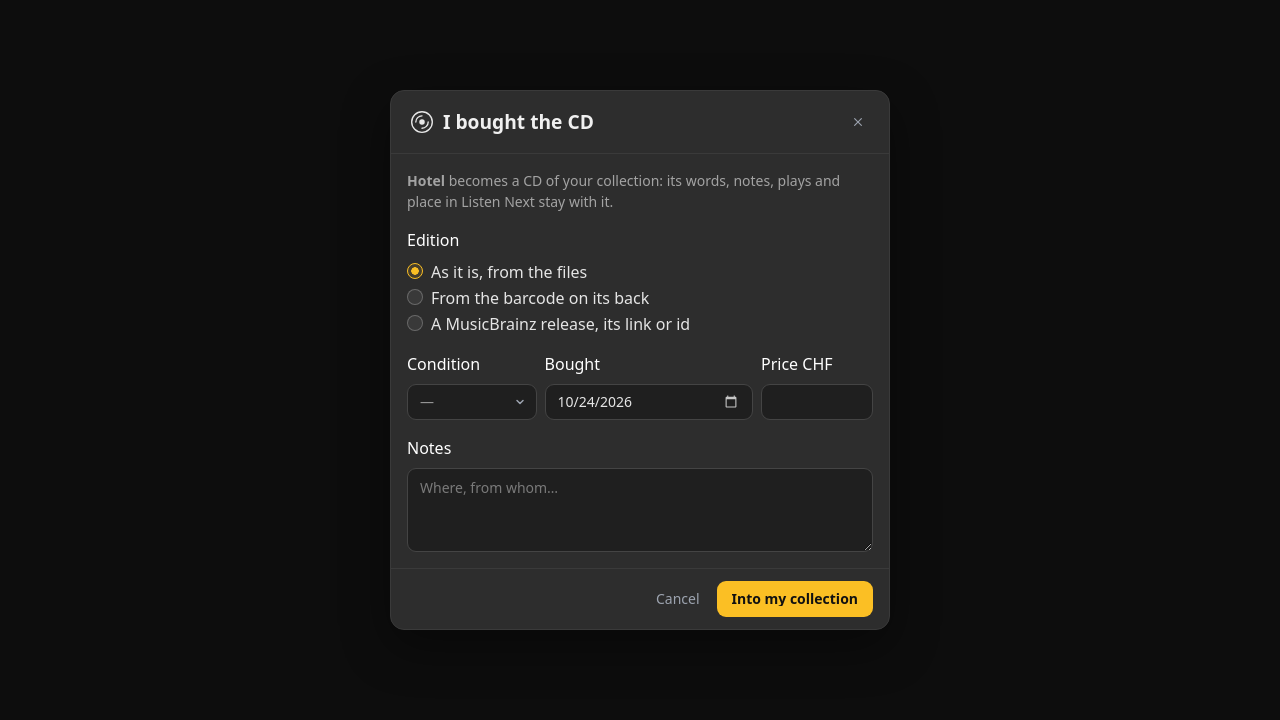
Test case: BoughtCdDialog › prend l’édition du code-barres quand on le choisit, et montre ce que le serveur refuse
This screenshot has width=1280, height=720.
Step 1. Click the radio button labelled "From the barcode on its back" → (415, 297), box [407, 289, 423, 305]
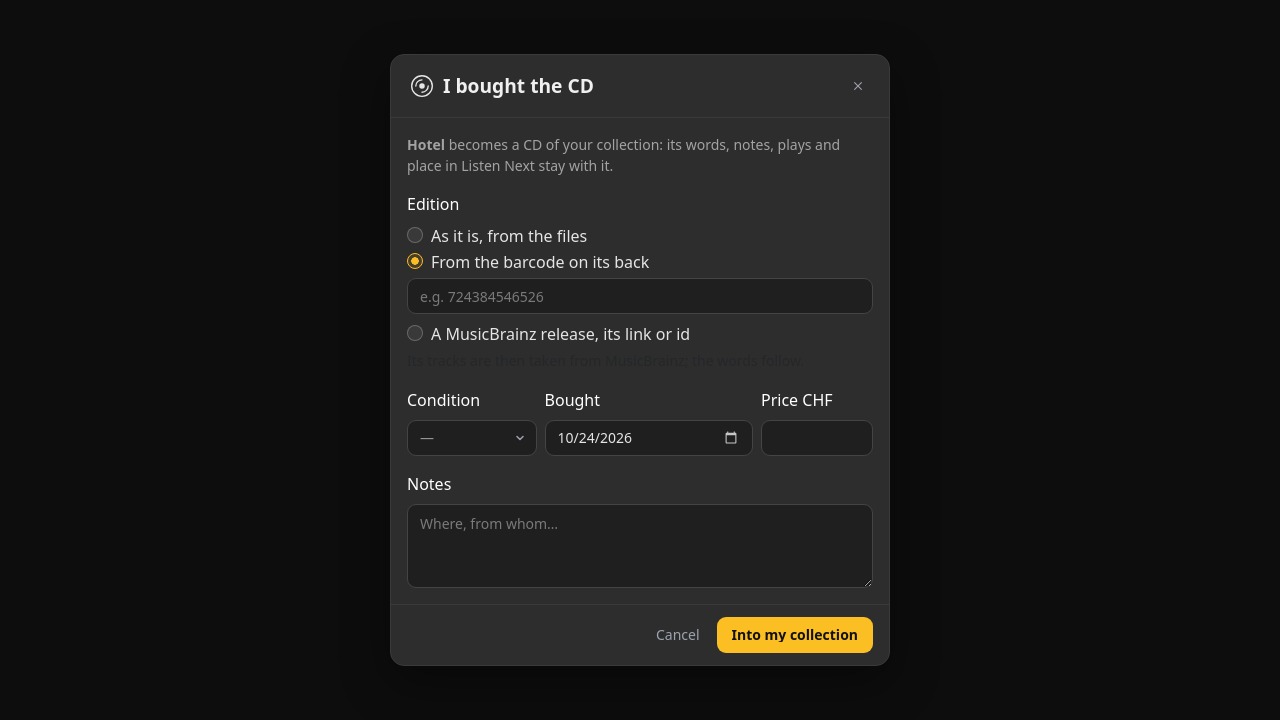
Step 2. Type "123" into the field with placeholder "e.g. 724384546526" → (640, 296), box [407, 278, 873, 314]
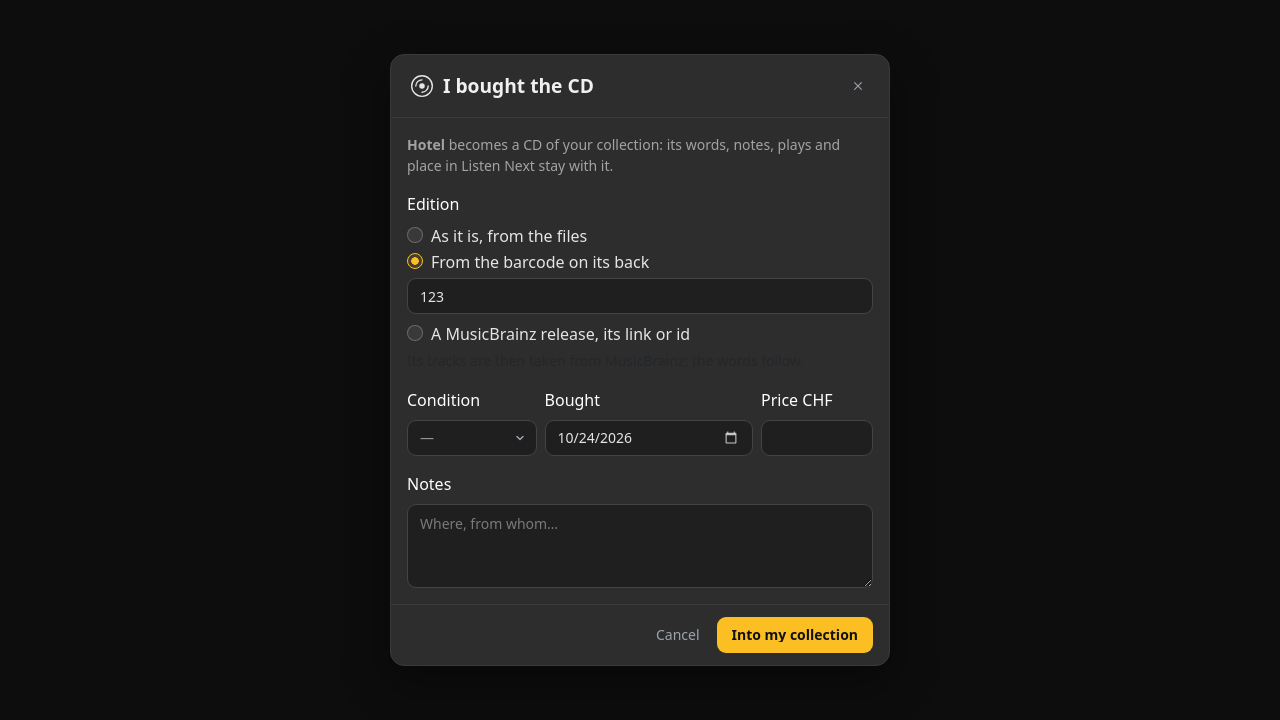
Step 3. Click the button "Into my collection" → (795, 635), box [716, 617, 873, 653]
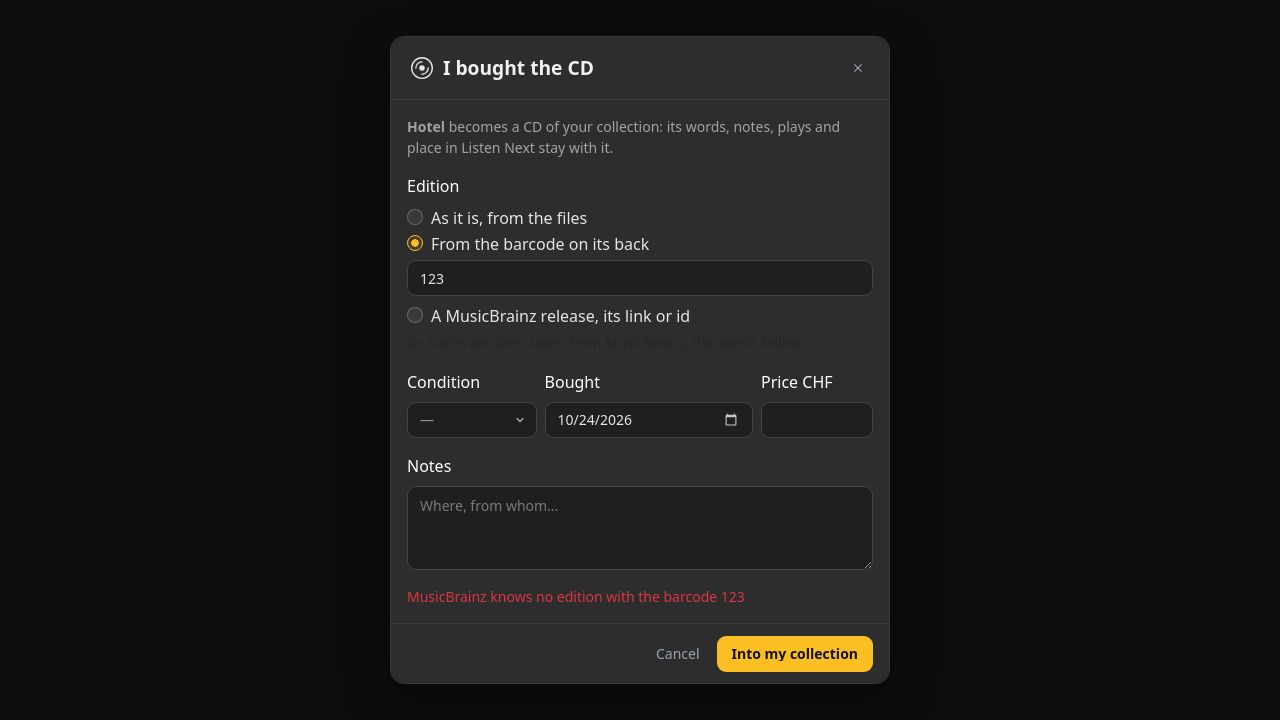
Now the text "MusicBrainz knows no edition with the barcode 123" is shown, box [407, 587, 745, 606]
